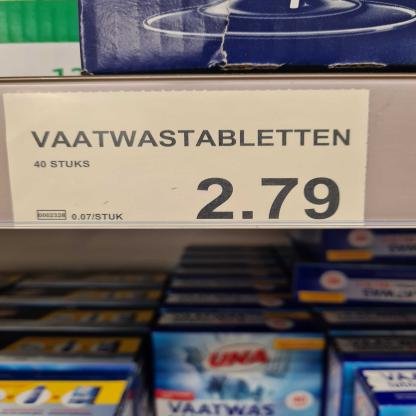prtg: (5, 91, 370, 227)
